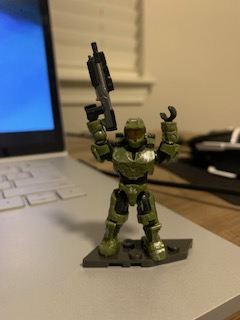chief: (82, 102, 179, 261)
rifle: (84, 42, 119, 135)
spartan: (80, 100, 177, 259)
up: (82, 102, 178, 183)
